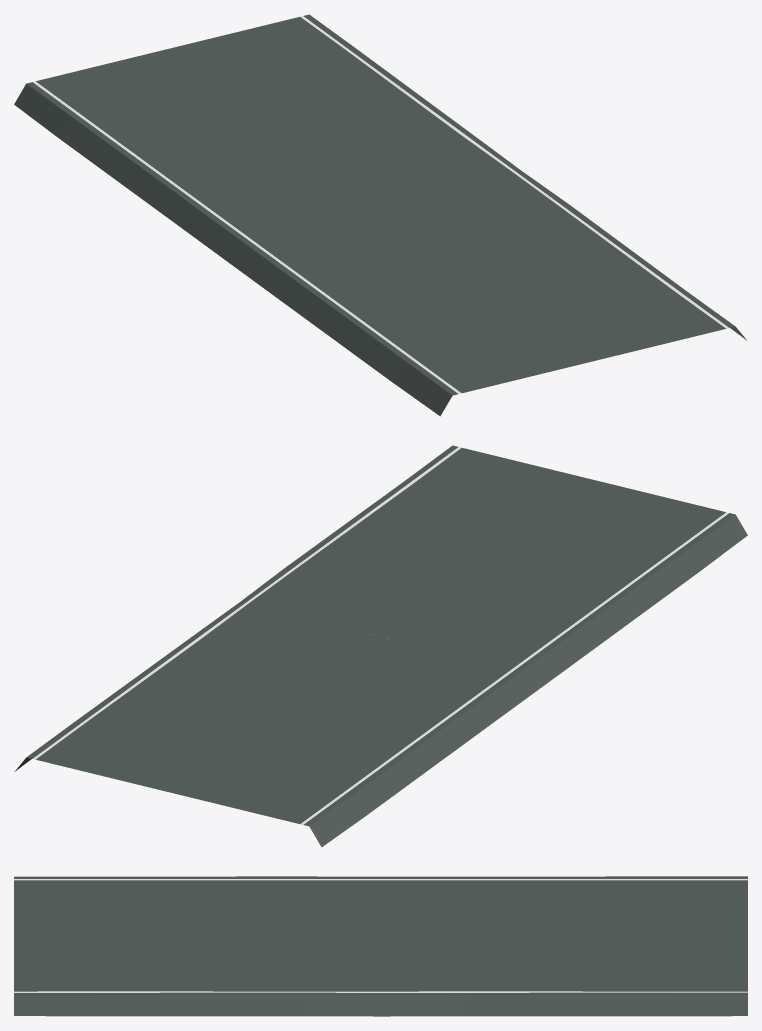
File: Straight.fbx
3 views of the same model, one above another, from view 1: azimuth 30°, elevation 25°; view 2: azimuth 150°, elevation 25°; view 3: azimuth 270°, elevation 25° (orthographic). The views are drawn at different scales.
Visible parts, largest first — view 1: Plane; view 2: Plane; view 3: Plane.
Part boxes in pixels (x1,y1,x2,y2): Plane: (14, 14, 746, 416); Plane: (14, 445, 747, 847); Plane: (14, 876, 747, 1016).
Size of the model in its own units: 25.16 by 1.4 by 60.
